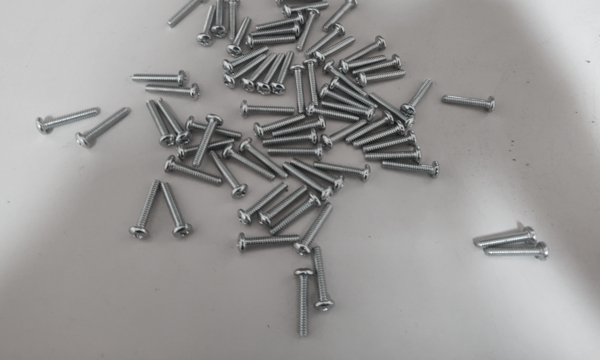longscrew: (78, 107, 130, 152), (203, 150, 246, 198), (260, 186, 308, 229), (225, 144, 274, 186), (299, 203, 339, 254), (240, 134, 287, 177), (238, 183, 286, 225), (274, 195, 322, 237), (282, 160, 332, 199), (130, 176, 159, 242), (166, 155, 223, 188), (39, 106, 99, 136), (156, 181, 187, 238), (291, 157, 345, 189), (193, 113, 223, 168), (319, 84, 375, 111), (346, 113, 396, 143), (355, 119, 405, 149), (313, 248, 334, 318), (238, 233, 299, 257), (143, 101, 175, 146), (157, 97, 189, 142), (489, 243, 550, 266), (327, 60, 368, 94), (293, 269, 313, 338), (331, 79, 377, 109), (371, 97, 417, 127), (476, 229, 537, 251), (225, 56, 268, 87), (384, 156, 439, 180), (185, 116, 242, 139), (243, 55, 279, 91), (176, 138, 238, 158), (254, 114, 312, 135), (258, 53, 286, 95), (324, 120, 366, 148), (223, 47, 269, 72), (403, 79, 434, 116), (165, 0, 207, 27), (271, 117, 329, 136), (316, 160, 371, 180), (291, 64, 312, 116), (342, 38, 384, 64), (367, 143, 424, 162), (322, 0, 359, 29), (307, 24, 344, 53), (303, 57, 323, 109), (358, 67, 410, 87), (352, 55, 403, 75), (298, 6, 320, 52), (228, 16, 253, 56), (322, 100, 377, 118), (306, 106, 360, 124), (367, 131, 417, 150), (239, 102, 296, 118), (438, 95, 495, 111), (275, 52, 295, 97), (132, 71, 188, 87), (146, 85, 202, 101), (318, 37, 358, 59), (342, 53, 390, 70), (269, 144, 323, 158), (263, 133, 317, 147), (282, 2, 332, 17), (255, 12, 305, 27), (252, 25, 302, 40), (246, 34, 296, 49), (200, 5, 215, 50), (224, 0, 239, 41), (211, 0, 227, 36), (276, 0, 326, 6)
